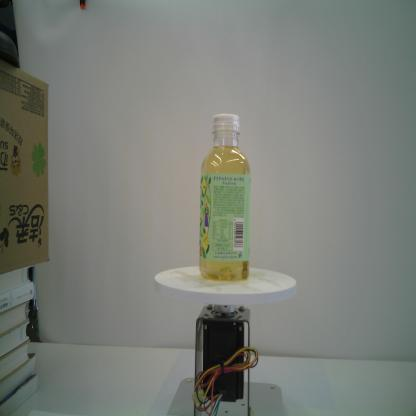Drink: (199, 113, 251, 281)
